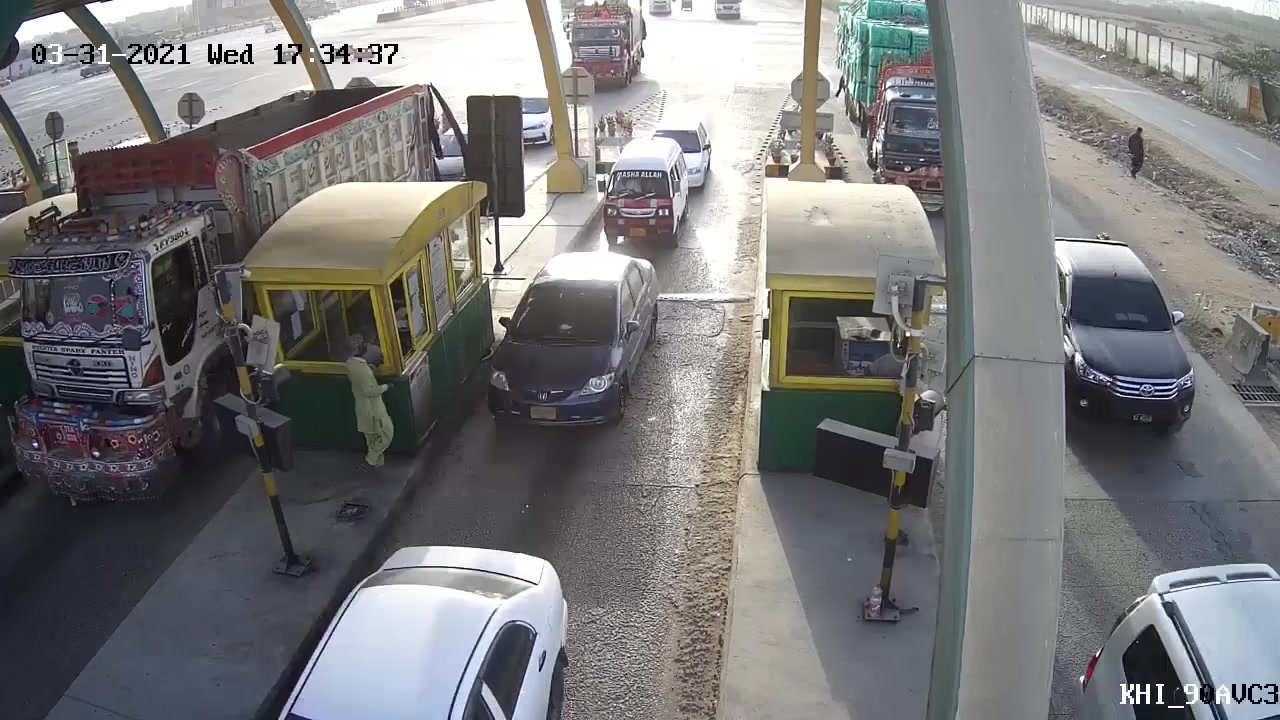F1: (468, 248, 677, 436)
